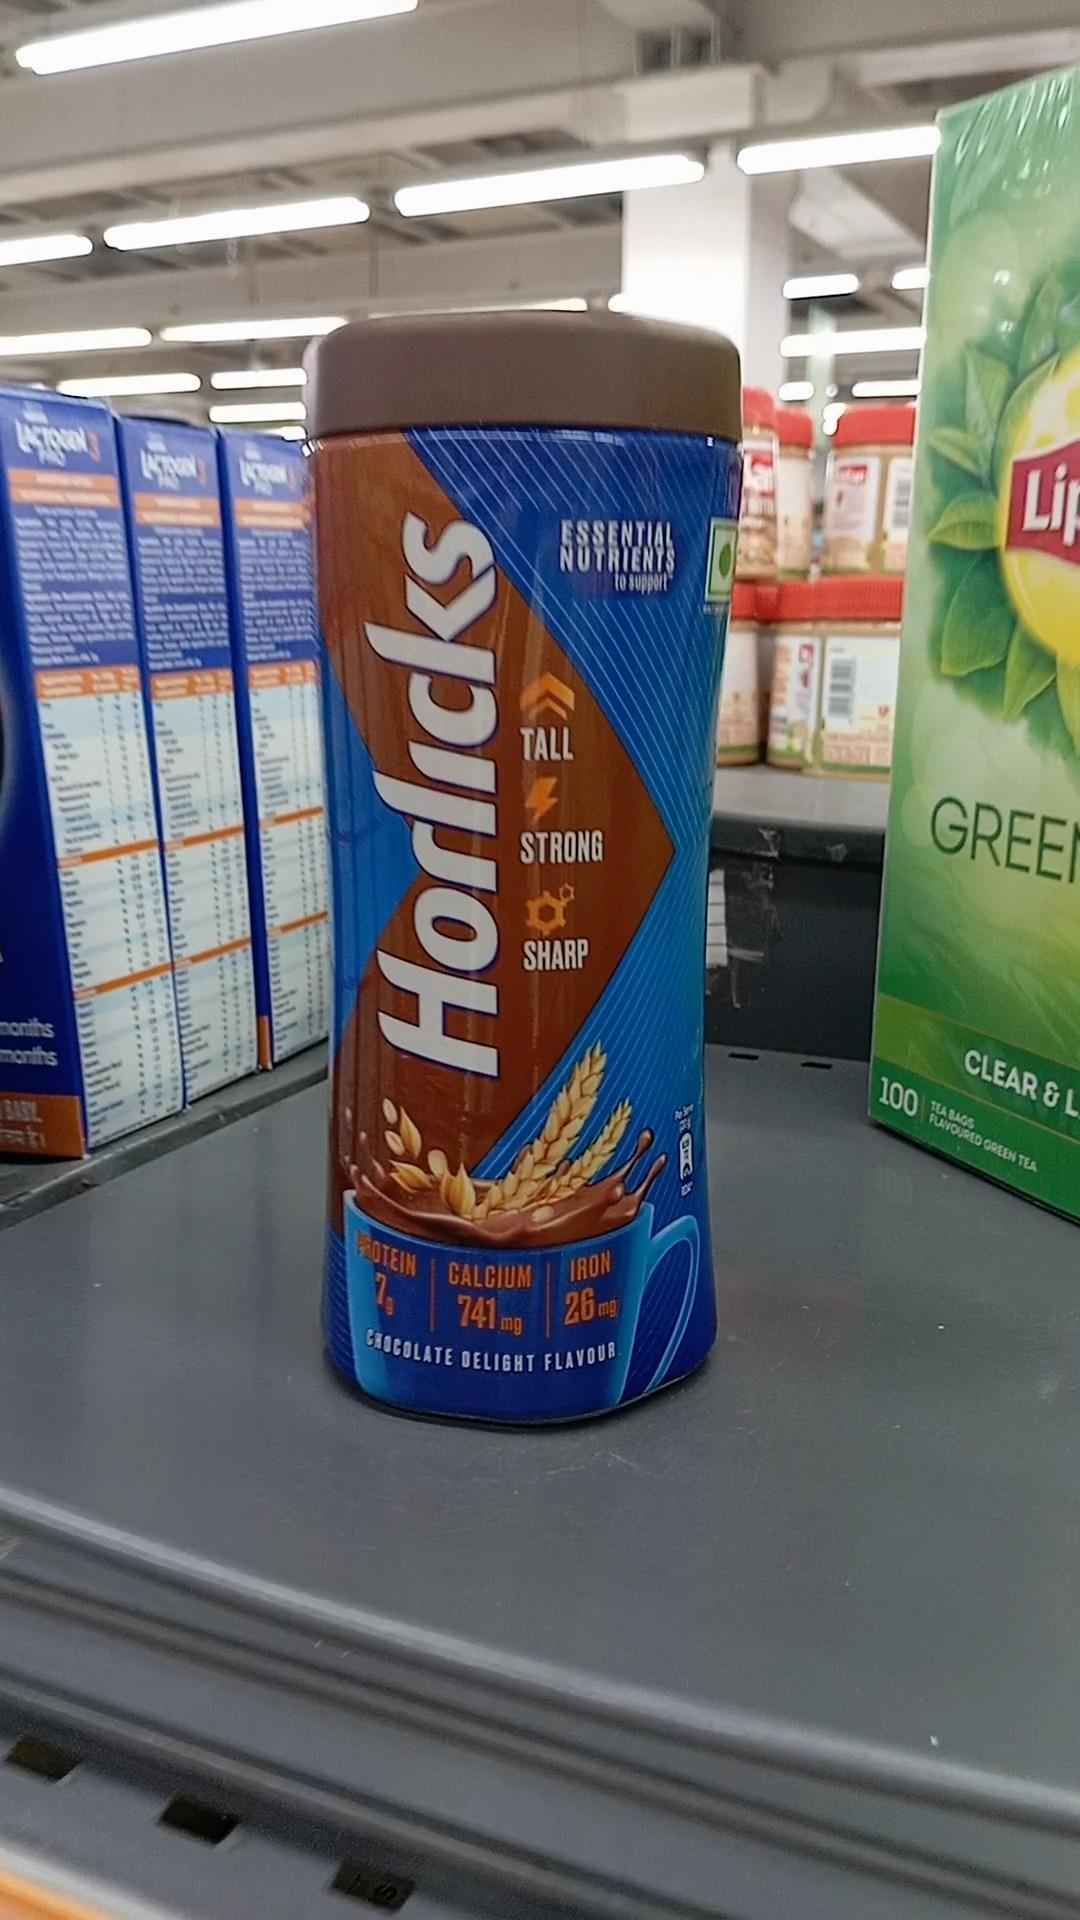HORLICK_CHOCOLATE_500_G_JAR: (307, 307, 725, 1436)
